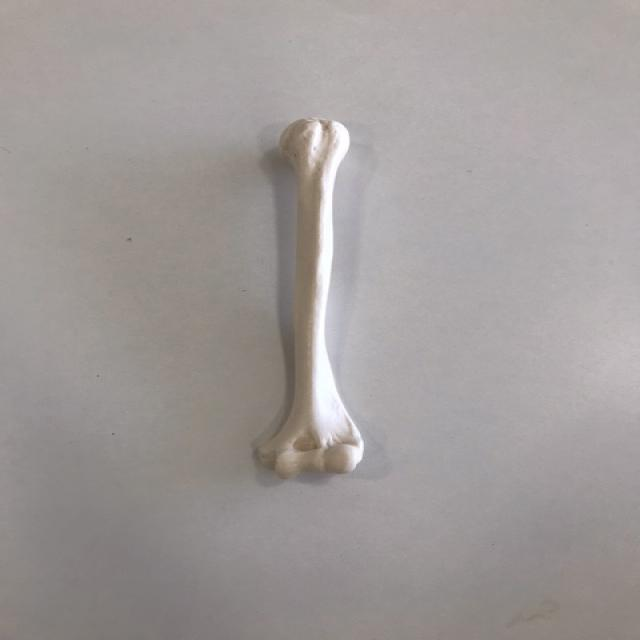bone: (259, 112, 370, 487)
